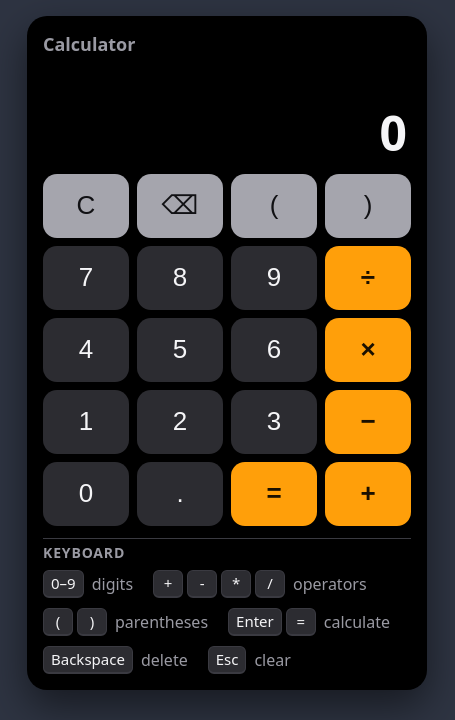
App › sends the clicked expression and shows the result
Step 1. Click the button "2" → click(180, 422), box [137,390,223,454]
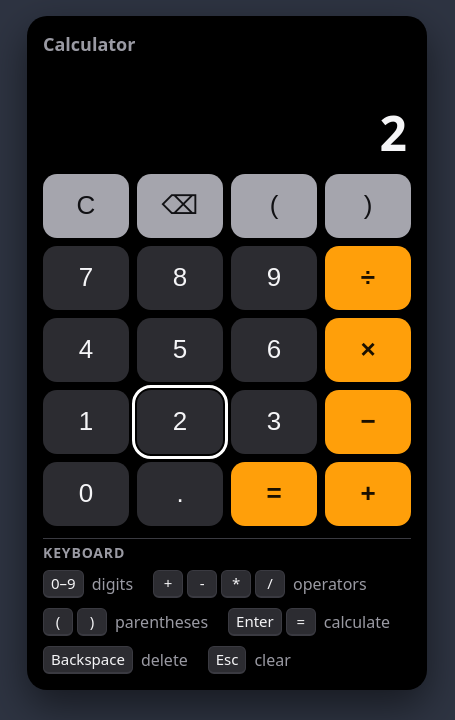
Step 2. Click the button named "plus" → click(368, 494), box [325,462,411,526]
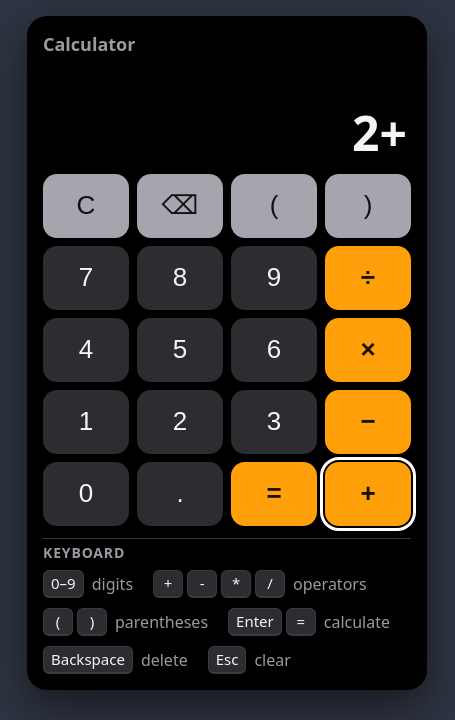
Step 3. Click the button "3" → click(274, 422), box [231,390,317,454]
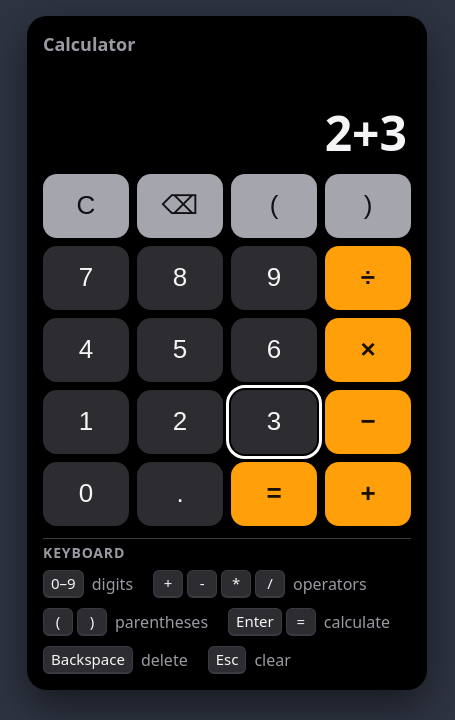
Step 4. Click the button named "multiply" → click(368, 350), box [325,318,411,382]
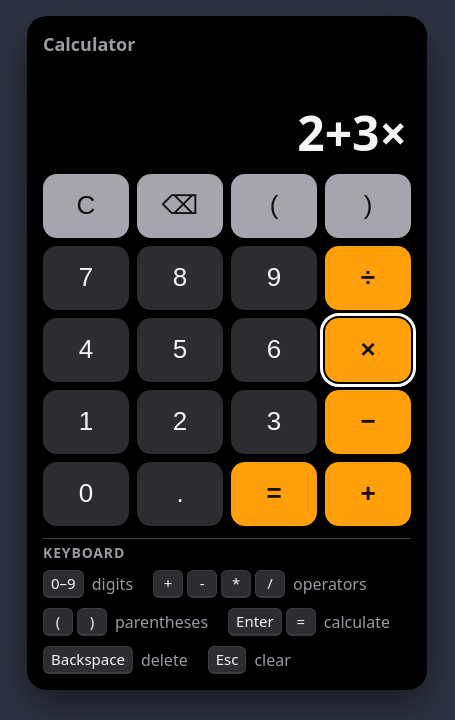
Step 5. Click the button "4" → click(86, 350), box [43,318,129,382]
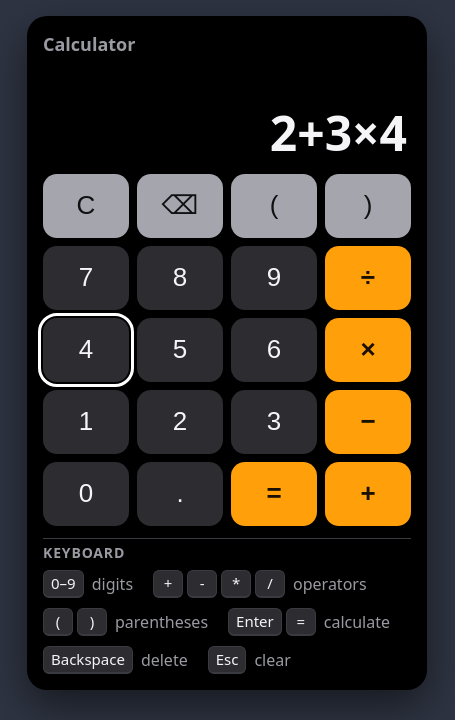
Step 6. Click the button named "equals" → click(274, 494), box [231,462,317,526]
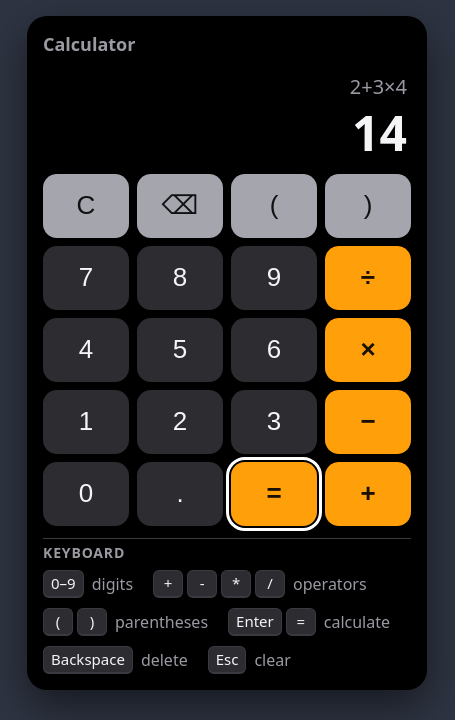
Expected: the message "14" is shown, [352,100,407,165]
